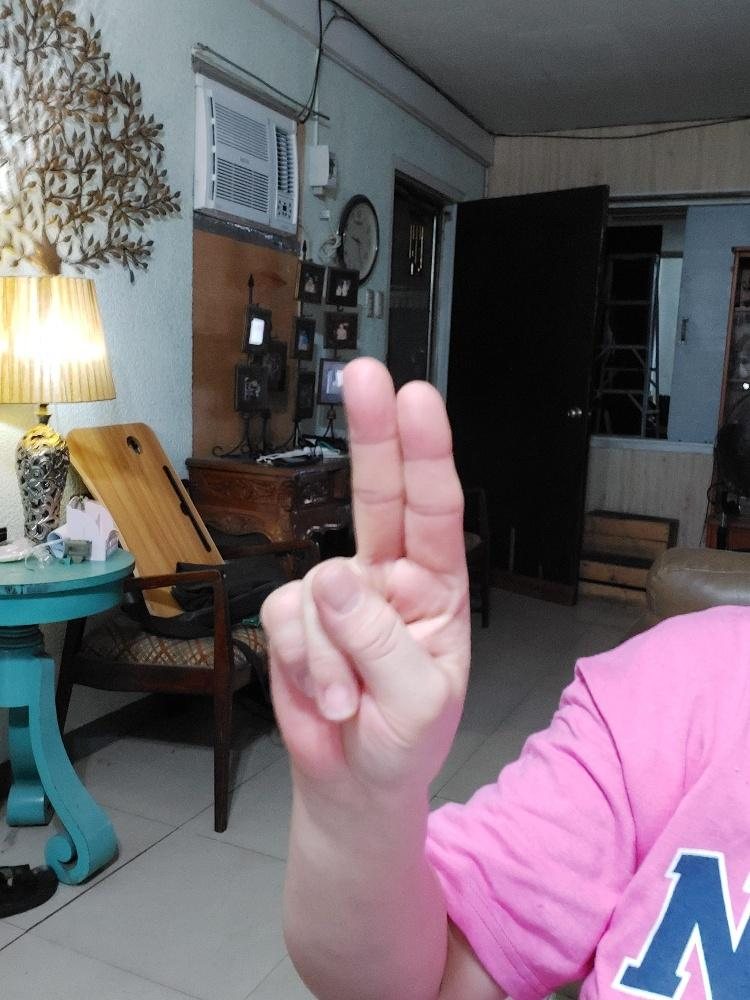u: (258, 355, 470, 798)
